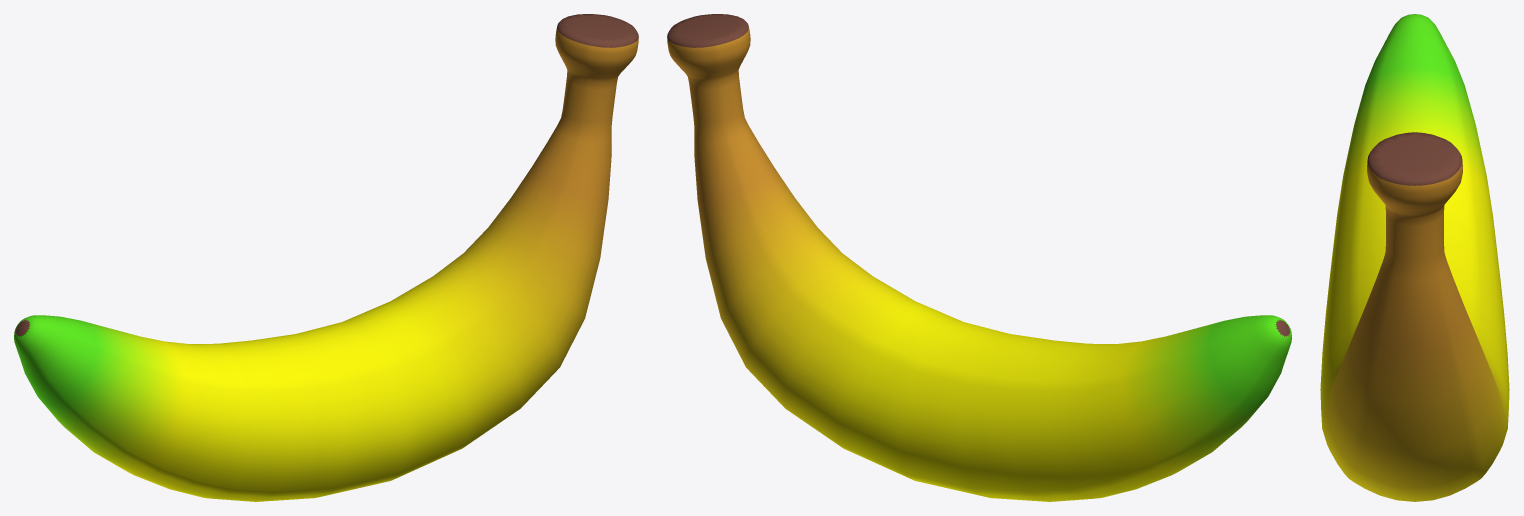
Rendered from Banana.fbx.
The picture shows the model from 3 angles, left to right: view 1: azimuth 30°, elevation 25°; view 2: azimuth 150°, elevation 25°; view 3: azimuth 270°, elevation 25°; orthographic projection. The views are drawn at different scales.
Parts seen in each view (by area): view 1: Banana; view 2: Banana; view 3: Banana.
Boxes of the visible parts, x1,y1,x2,y2 form: Banana: (14,14,638,501); Banana: (667,14,1291,501); Banana: (1320,14,1509,501).
Size of the model in its own units: 175 by 107 by 40.53.
Materials: 1 (1 with a texture image).
